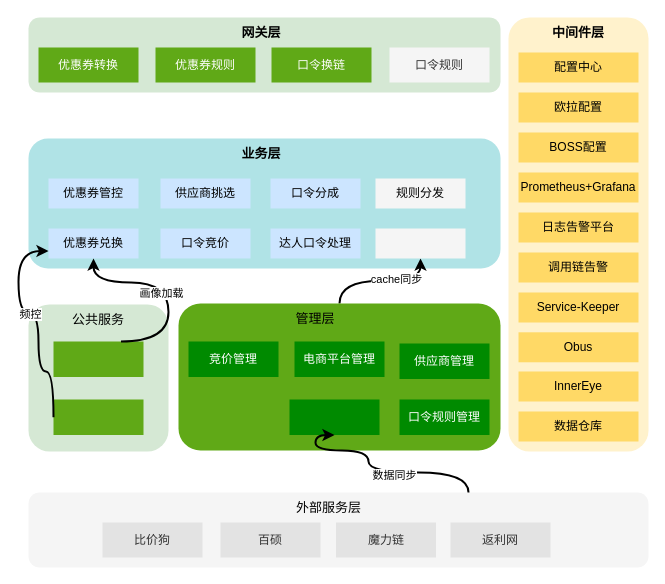
Some shapes in this 665 by 584 pixel diagram are drawn without their labels. The shapes that lost their labels are listed below. From the top down, each one's centre as x and y in pixels, then its label:
At point (420, 243): "规则加载".
At point (98, 358): "画像服务".
At point (98, 416): "频控服务".
At point (334, 416): "规则数据同步".
